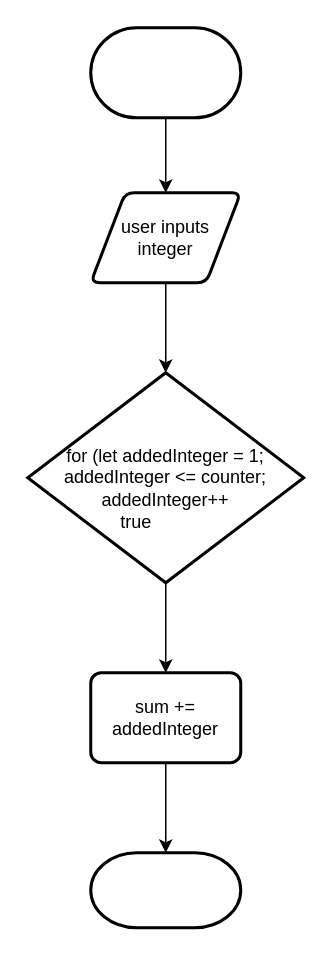
Some shapes in this 330 by 954 pixel diagram are drawn without their labels. The shapes that lost their labels are listed below. From the top down, each one's centre as x and y in pixels, then its label:
At (165,72): "start".
At (165,889): "stop".
